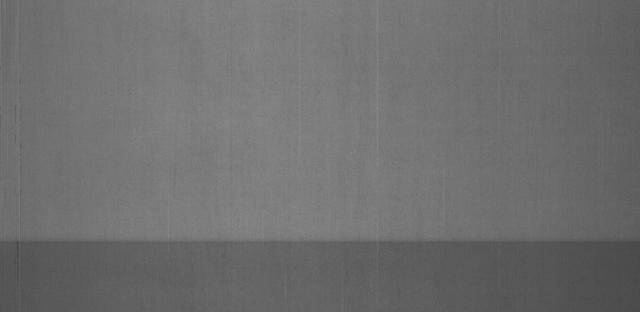welding_line: (8, 231, 640, 260)
